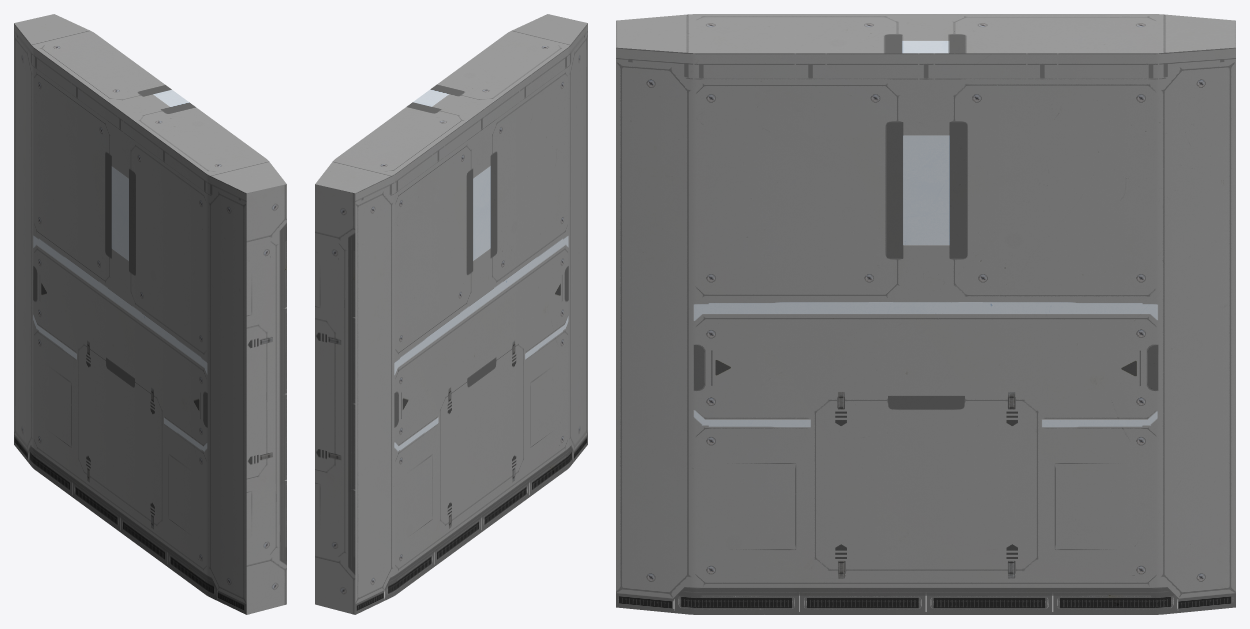
Rendered from SM_WallType1.fbx.
3 views of the same model, side by side, from view 1: azimuth 30°, elevation 25°; view 2: azimuth 150°, elevation 25°; view 3: azimuth 270°, elevation 25° (orthographic). The views are drawn at different scales.
Visible parts, largest first — view 1: SM_WallType1_LOD0; view 2: SM_WallType1_LOD0; view 3: SM_WallType1_LOD0.
Boxes of the visible parts, x1,y1,x2,y2 form: SM_WallType1_LOD0: (14,14,286,614); SM_WallType1_LOD0: (315,14,587,614); SM_WallType1_LOD0: (616,14,1235,614).
Bounding box in the file's own units: 60 × 400 × 400.
Materials: 1 (1 with a texture image).
